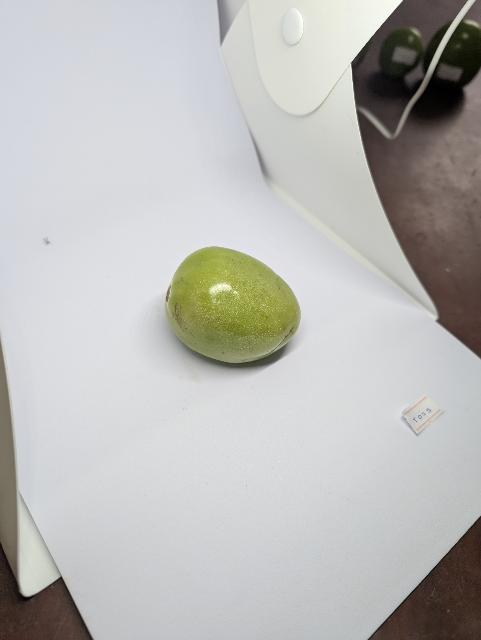green: (164, 245, 303, 365)
